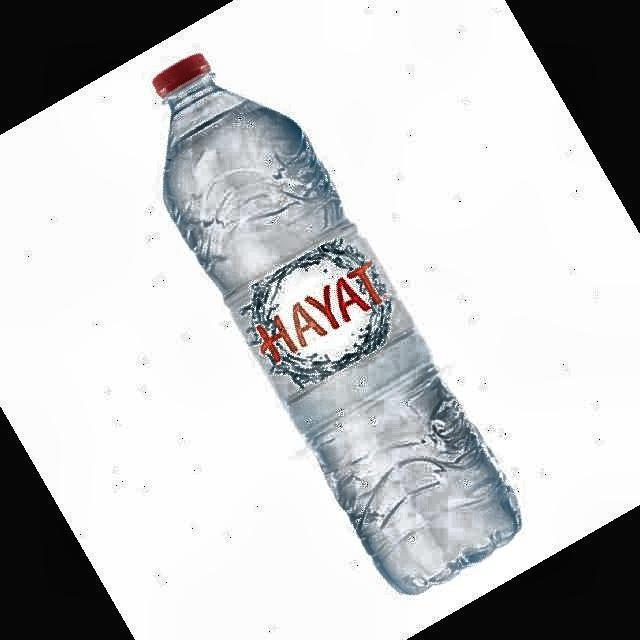plastic: (154, 55, 520, 593)
